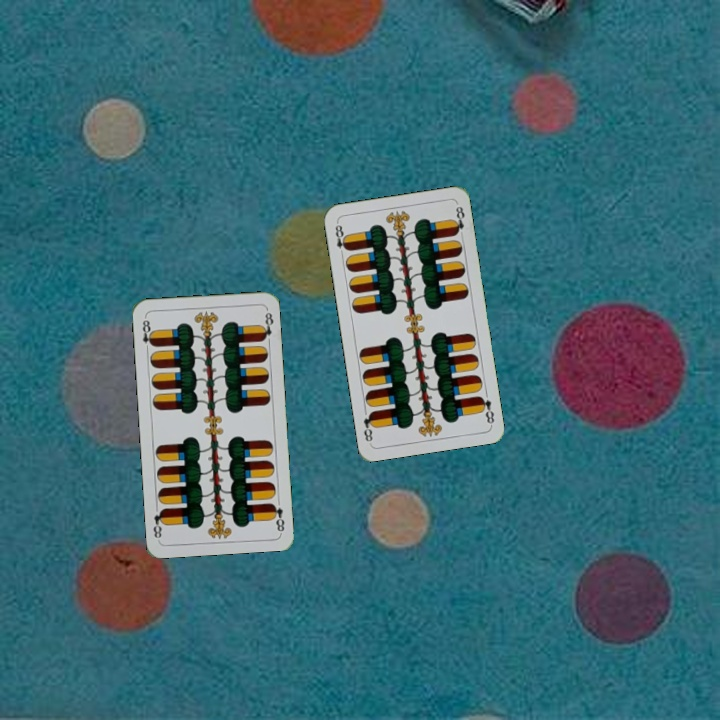E8: (331, 219, 351, 259), (268, 494, 287, 534), (475, 392, 497, 426), (138, 313, 156, 354)
